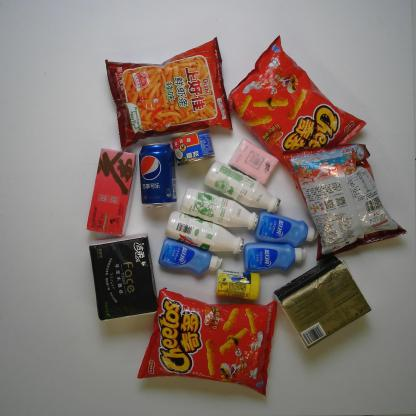Canned Food: (171, 128, 216, 168)
Drink: (138, 142, 178, 209)
Gum: (214, 268, 261, 301)
Instant Drink: (84, 147, 138, 238)
Milk: (203, 159, 282, 214), (178, 186, 260, 232), (164, 210, 246, 256)
Personal Hygiene: (158, 236, 224, 276), (254, 210, 320, 248), (242, 241, 308, 274)
Puffed Food: (228, 33, 368, 191), (136, 286, 278, 399), (104, 35, 234, 152), (282, 142, 408, 262)
Tissue: (272, 254, 373, 351), (88, 231, 159, 323), (228, 138, 280, 186)
